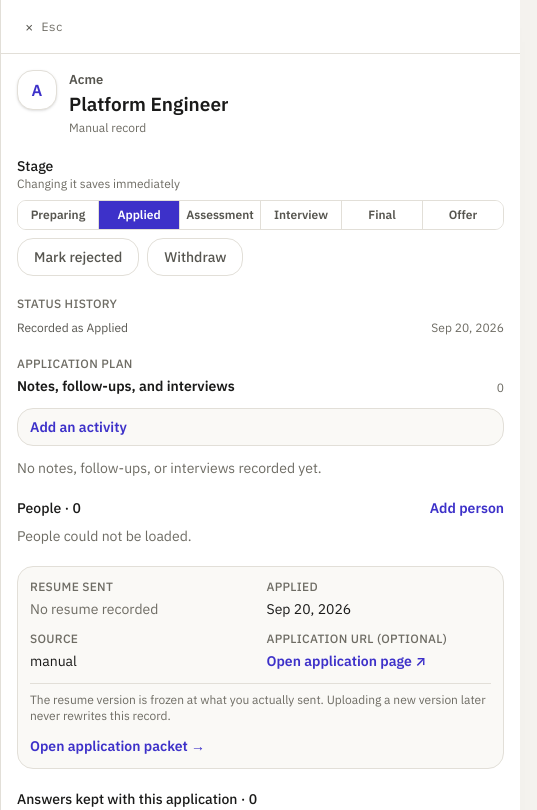
Test: FocusPanel — application flavour › appends a new history entry after a successful stage change
Expected: the heading "Platform Engineer" is shown, x1=69 y1=90 x2=228 y2=118
Expected: the text "Recorded as Applied" is shown, x1=17 y1=320 x2=128 y2=336
What coordinates should you click on to do the following:
click the button "Interview"
I would click on:
 (302, 215)
Its box is x1=261 y1=201 x2=342 y2=229.
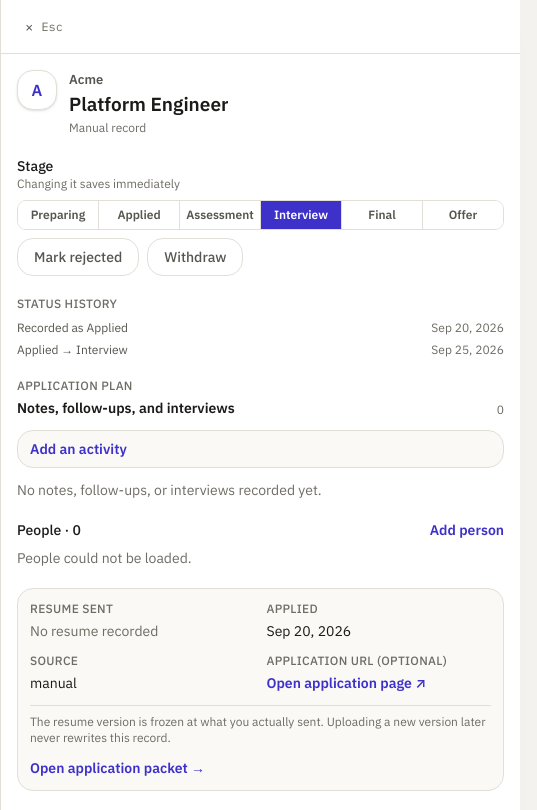
Result: the text "Applied → Interview" is shown at x1=17 y1=342 x2=128 y2=358
